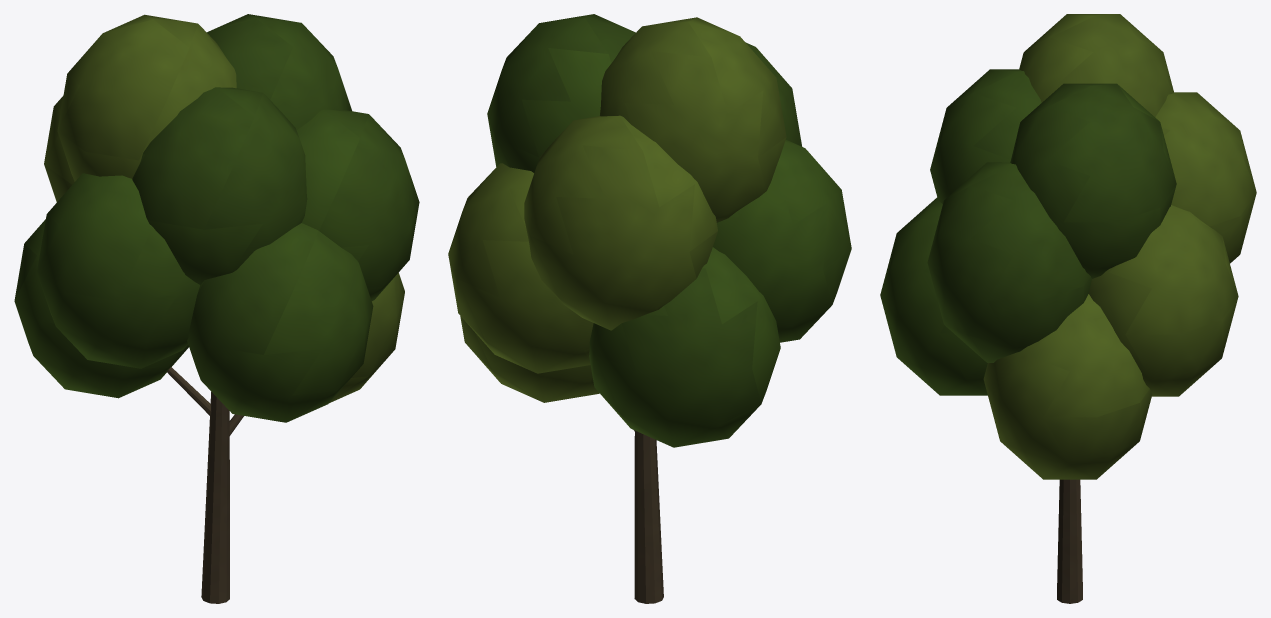
Rendered from park_deciduous_tree.glb.
3 views of the same model, side by side, from view 1: azimuth 30°, elevation 25°; view 2: azimuth 150°, elevation 25°; view 3: azimuth 270°, elevation 25° (orthographic). The views are drawn at different scales.
Visible parts, largest first — view 1: park_deciduous_tree; view 2: park_deciduous_tree; view 3: park_deciduous_tree.
Boxes of the visible parts, x1=… form: park_deciduous_tree: x1=14, y1=14, x2=419, y2=603; park_deciduous_tree: x1=448, y1=14, x2=851, y2=603; park_deciduous_tree: x1=880, y1=14, x2=1256, y2=603.
Size of the model in its own units: 4.47 by 7.12 by 4.36.
3 materials, 3 textured.
